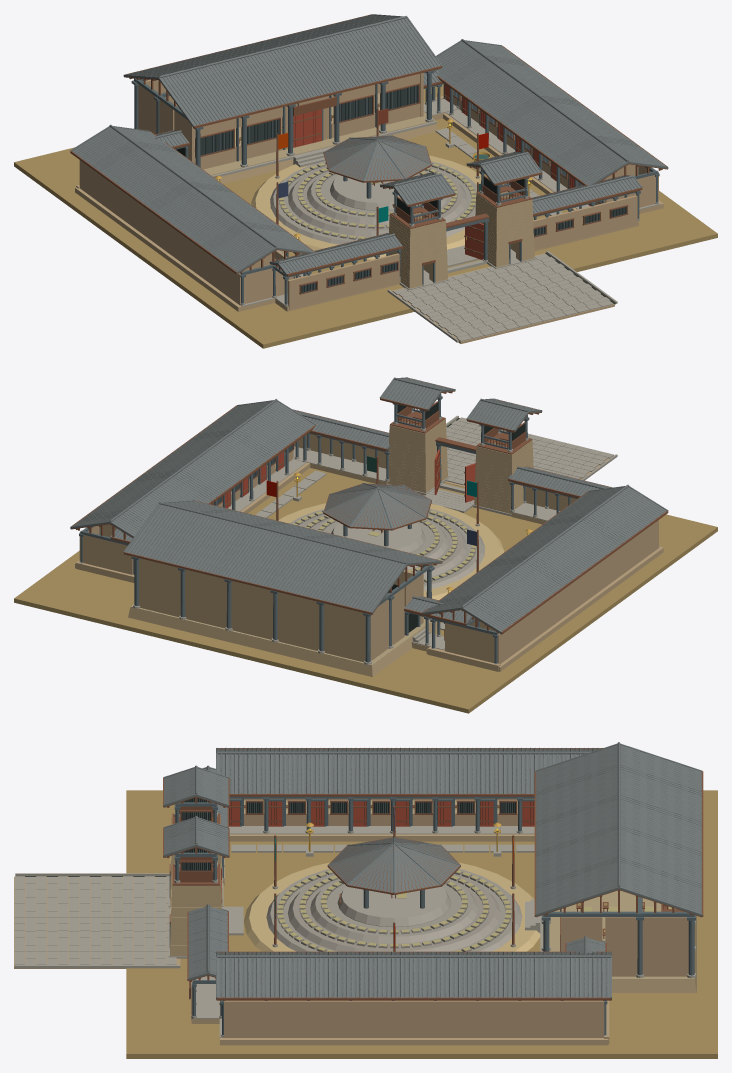
File: jixia.glb
The picture shows the model from 3 angles, top to bottom: view 1: azimuth 30°, elevation 25°; view 2: azimuth 150°, elevation 25°; view 3: azimuth 270°, elevation 25°; orthographic projection. The views are drawn at different scales.
Parts seen in each view (by area): view 1: jixia; view 2: jixia; view 3: jixia.
Part boxes in pixels (x1,y1,x2,y2): jixia: (14, 14, 717, 348); jixia: (14, 377, 717, 713); jixia: (14, 742, 717, 1058).
Size of the model in its own units: 23.02 by 5.01 by 26.
